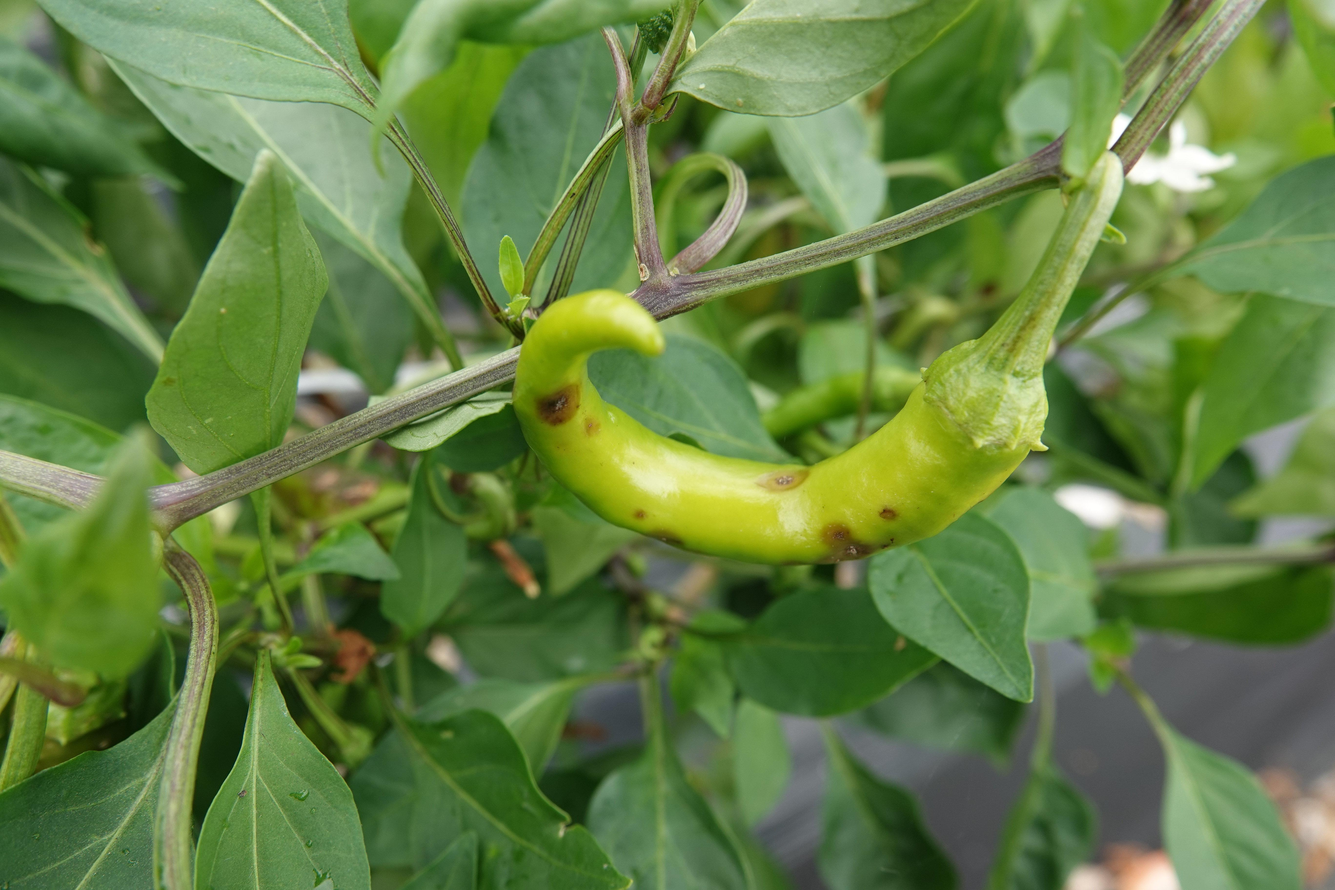Busuk Buah Antraknosa: (508, 285, 1058, 568)
